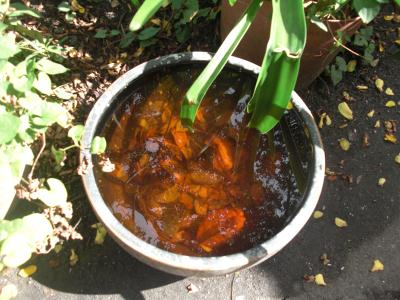bowl: (74, 47, 328, 280)
